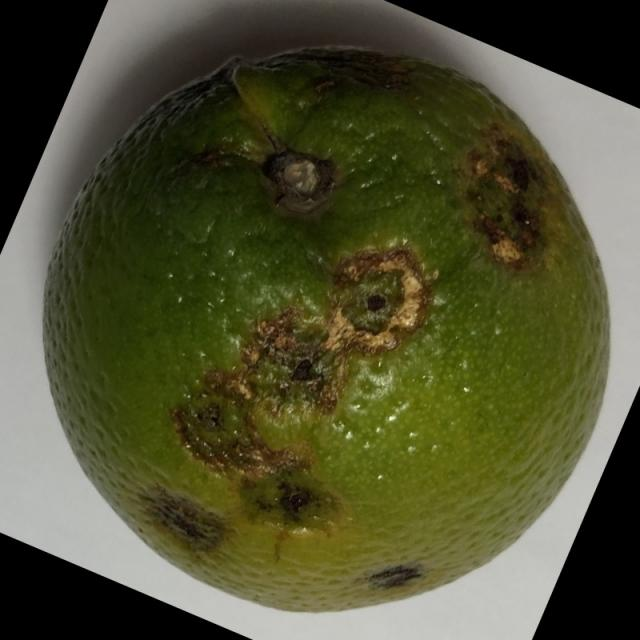canker: (22, 36, 631, 634)
